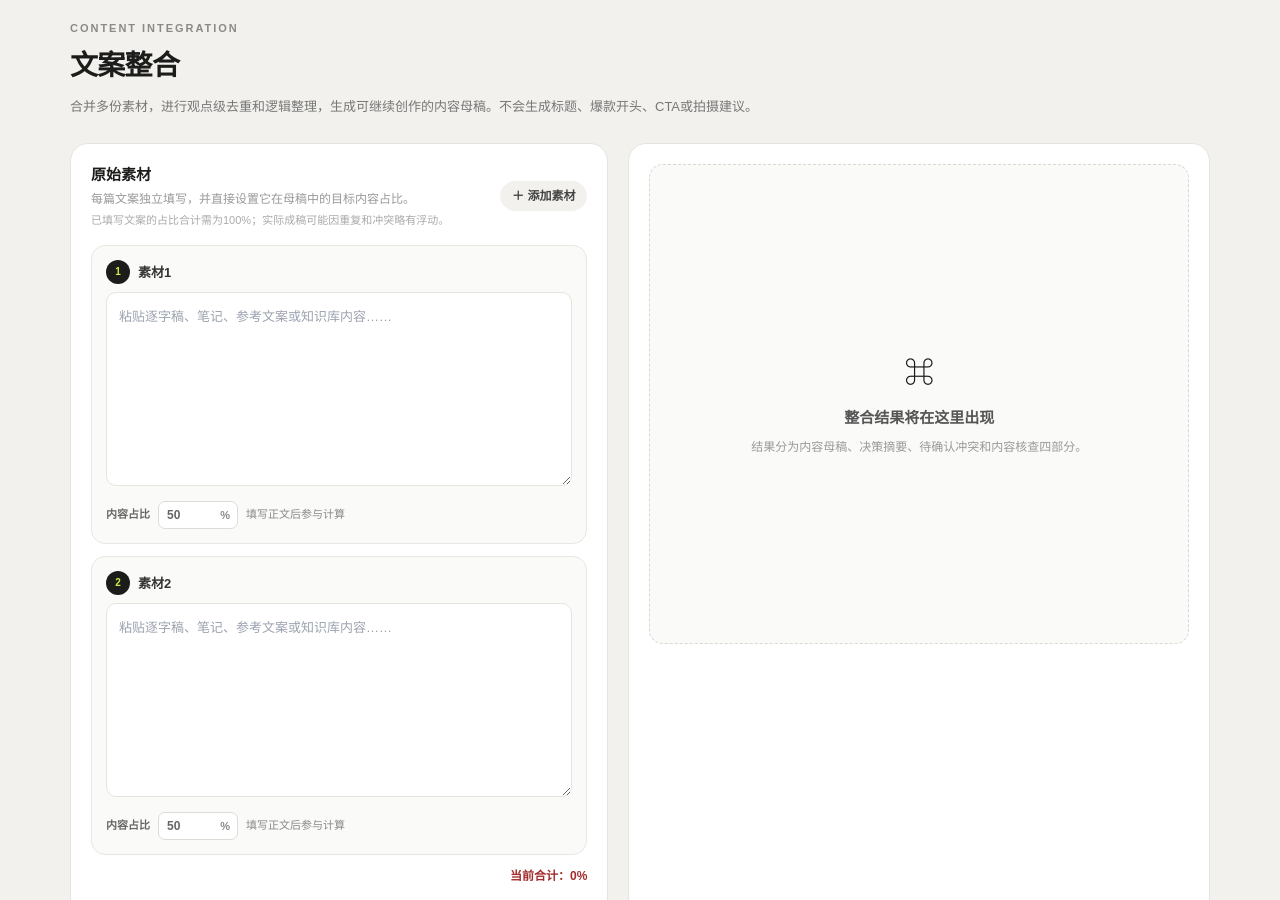
Test: 未保存的整合结果不分配编号，点击保存后生成母稿和片段编号
Type "客户不买，是因为缺乏信任。" into the text box named "素材正文".
click(339, 388); type("客户不买，是因为缺乏信任。")  # box 106,292 -> 572,486
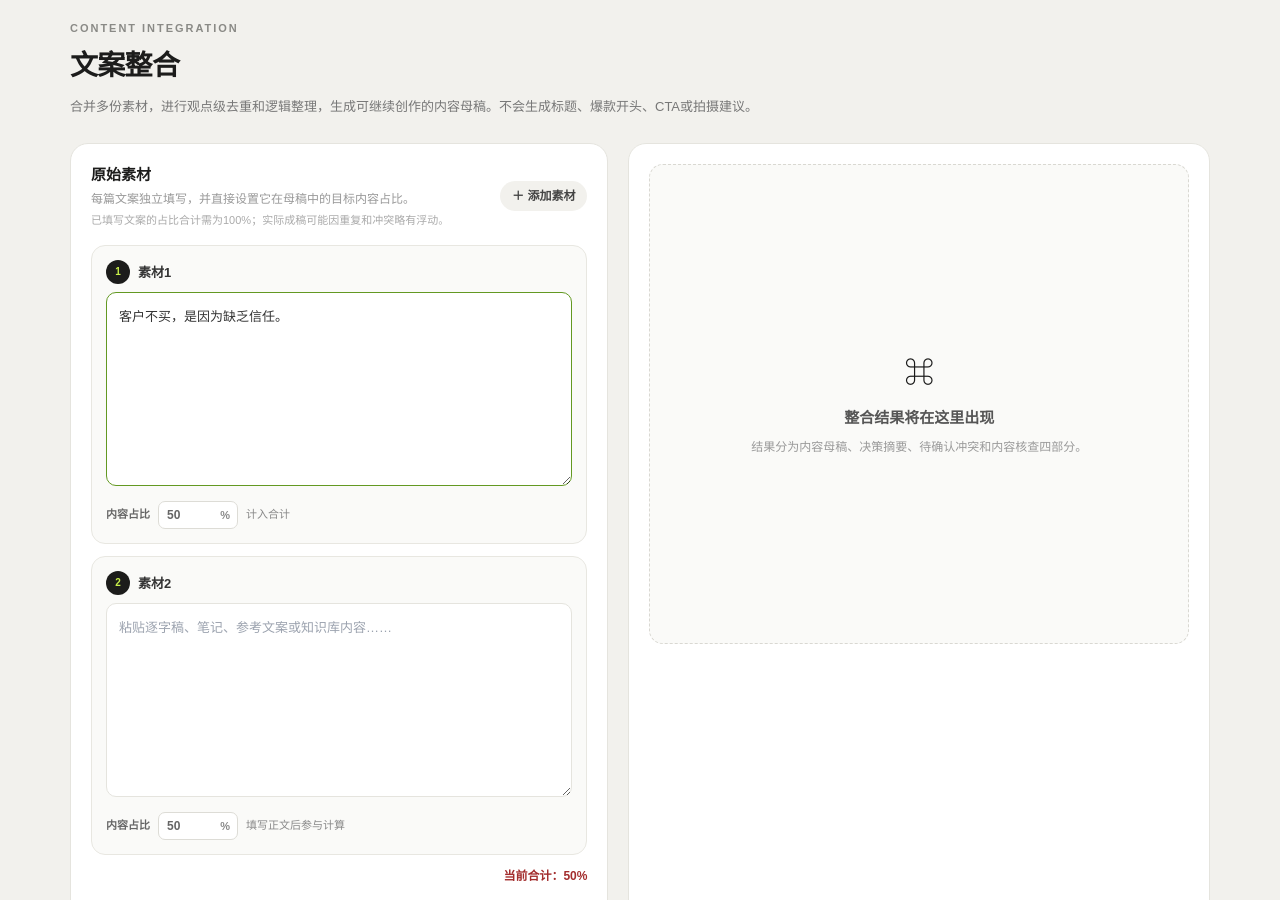
Type "信任需要持续积累。" into the text box named "素材正文".
click(339, 700); type("信任需要持续积累。")  # box 106,602 -> 572,796
(page scrolled)
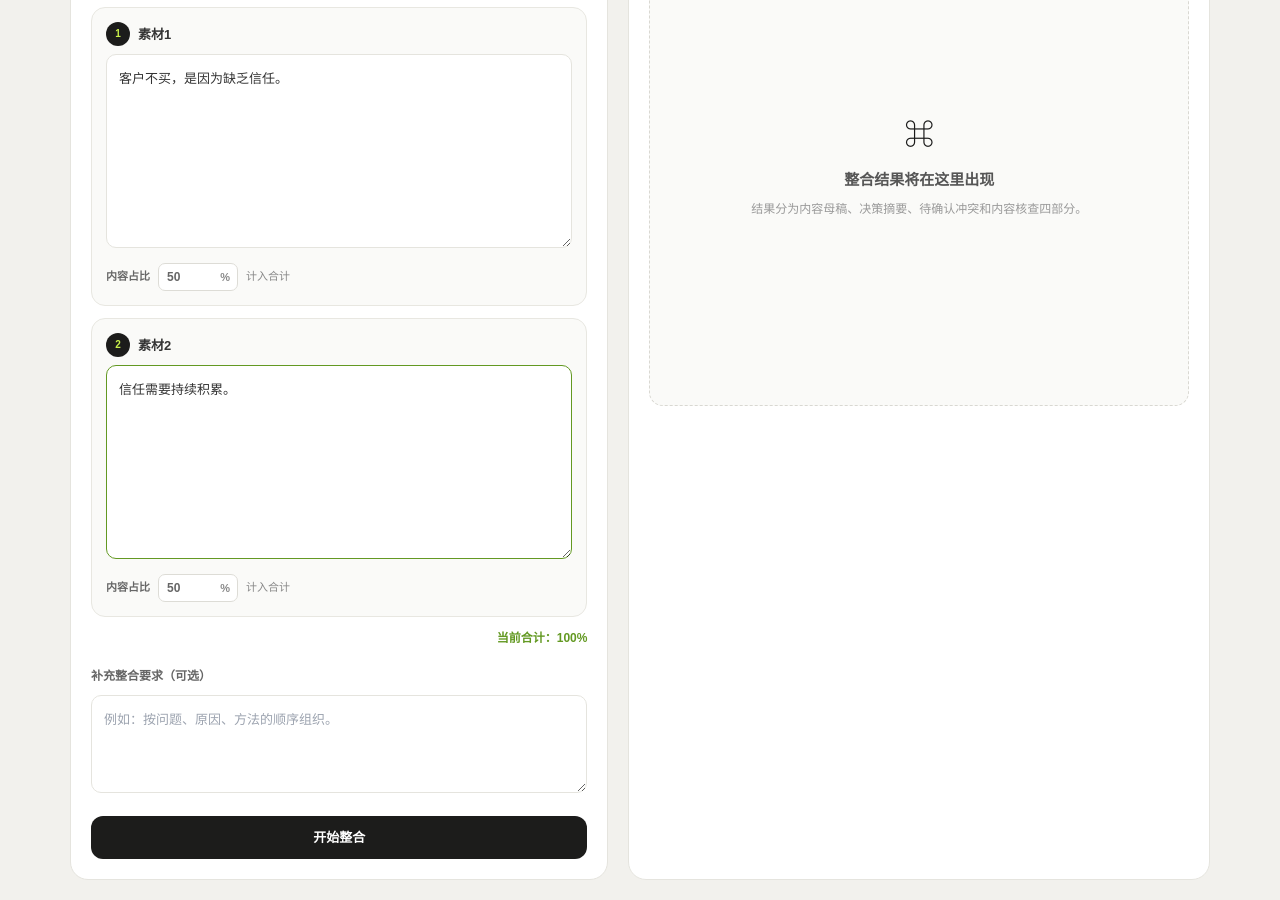
Click the button "开始整合".
click(339, 837)  # box 91,816 -> 588,859
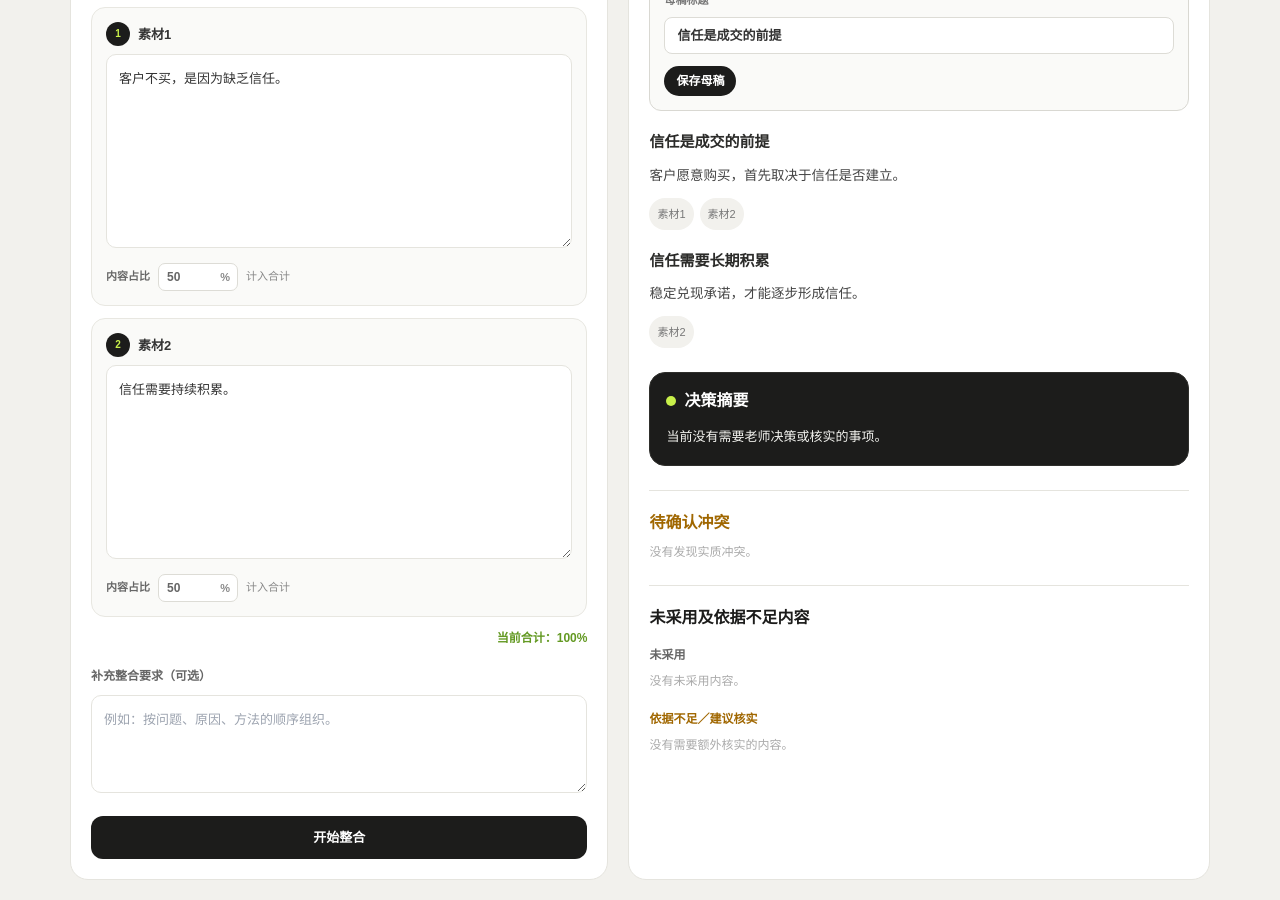
Now the heading "信任是成交的前提" is shown, box 650,133 -> 770,150
Replace the text in the field labelled "母稿标题" with "客户信任母稿" at (919,35), box 664,16 -> 1174,54
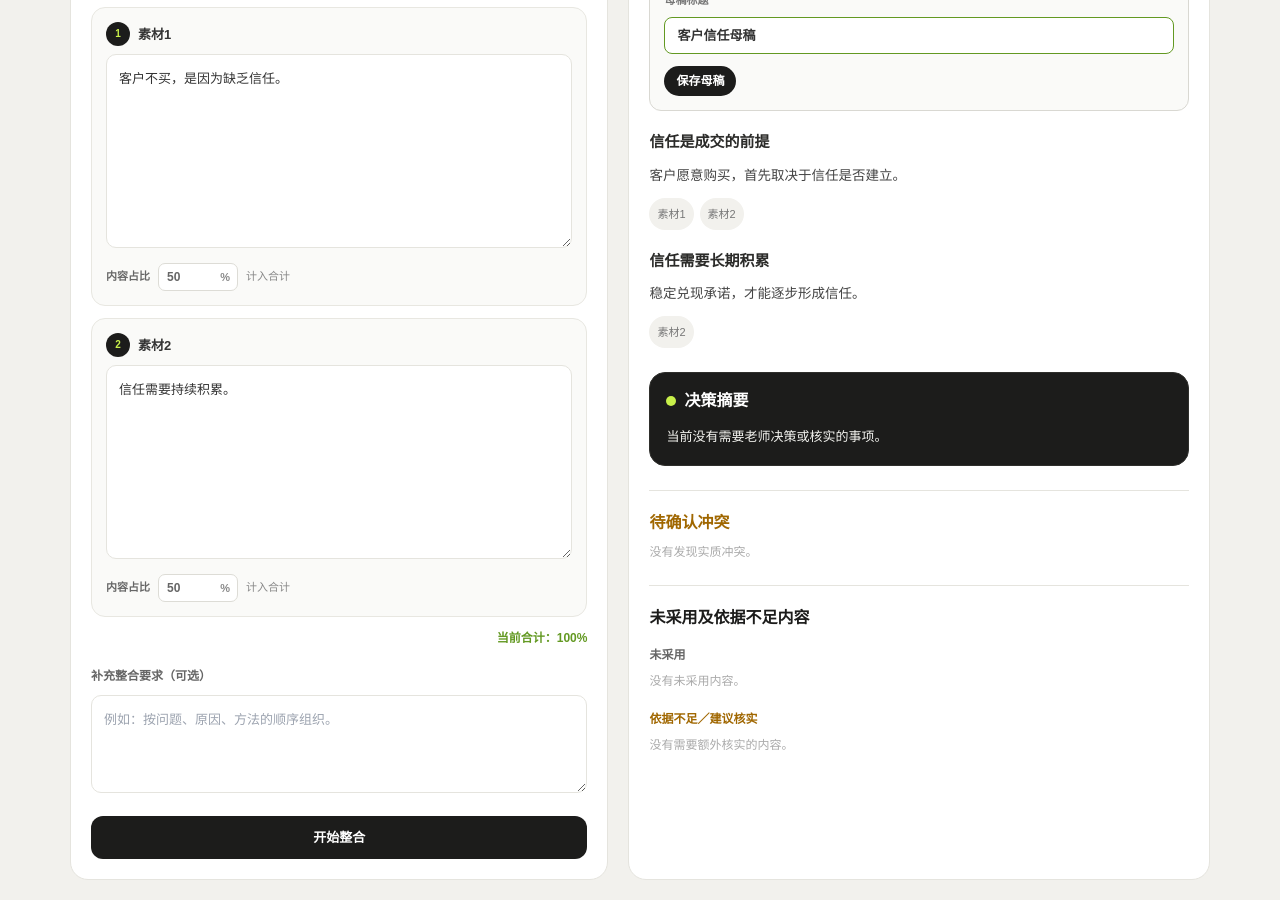
Click the button "保存母稿".
click(700, 81)  # box 664,66 -> 736,96
(page scrolled)
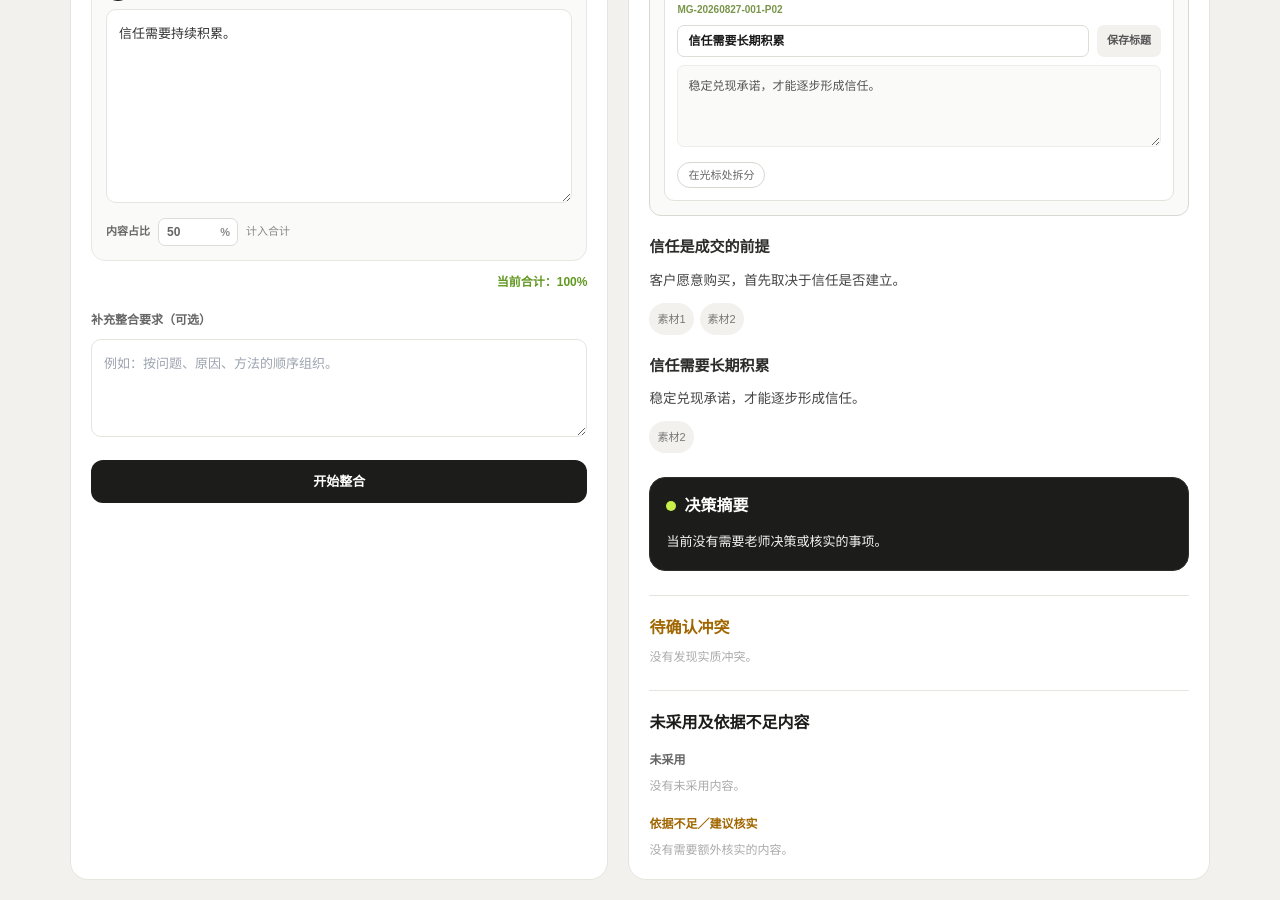
Expected: the heading "决策摘要" is shown, 684,494 -> 748,518
Now the heading "未采用及依据不足内容" is shown, box 650,714 -> 810,731
Now the text "MG-20260827-001-P02" is shown, box 678,4 -> 783,14
